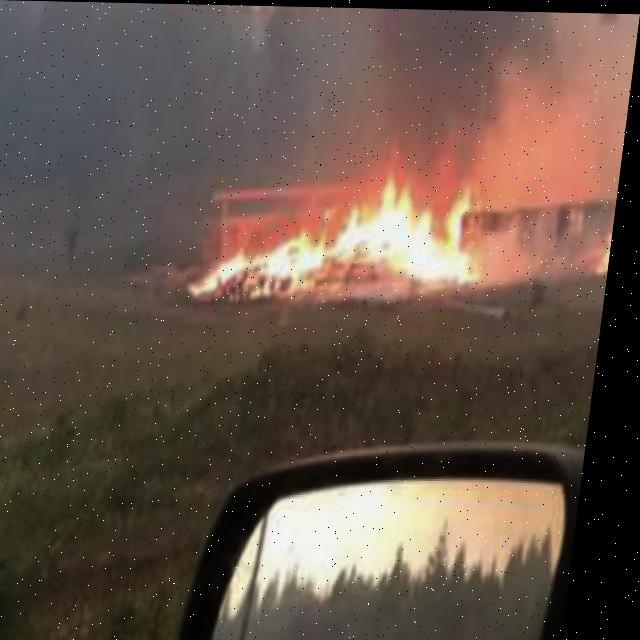Fire: (185, 168, 515, 310)
